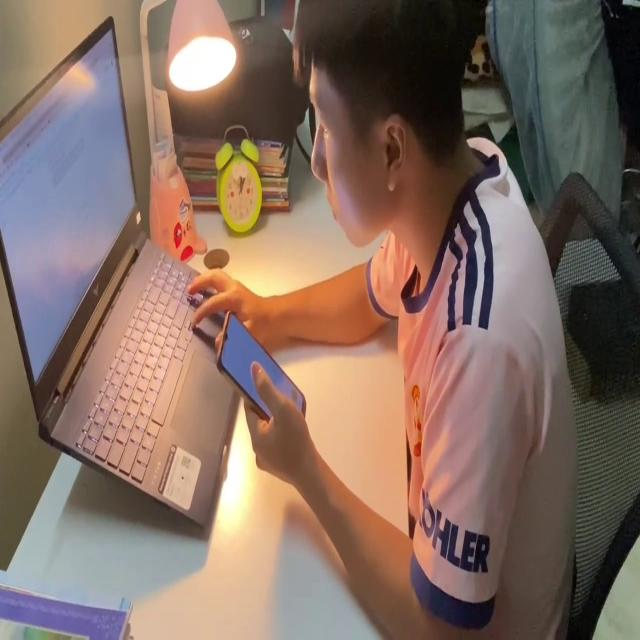laptop: (0, 15, 247, 528)
phone: (208, 302, 310, 436)
student: (183, 3, 581, 640)
